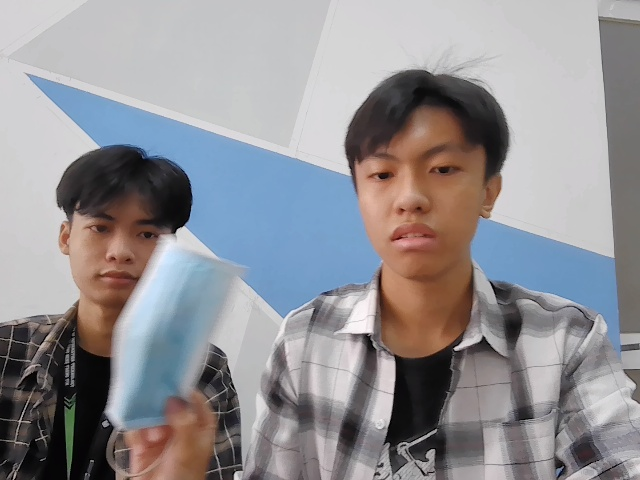human: (311, 55, 511, 278), (44, 139, 182, 299)
mask: (106, 236, 239, 426)
